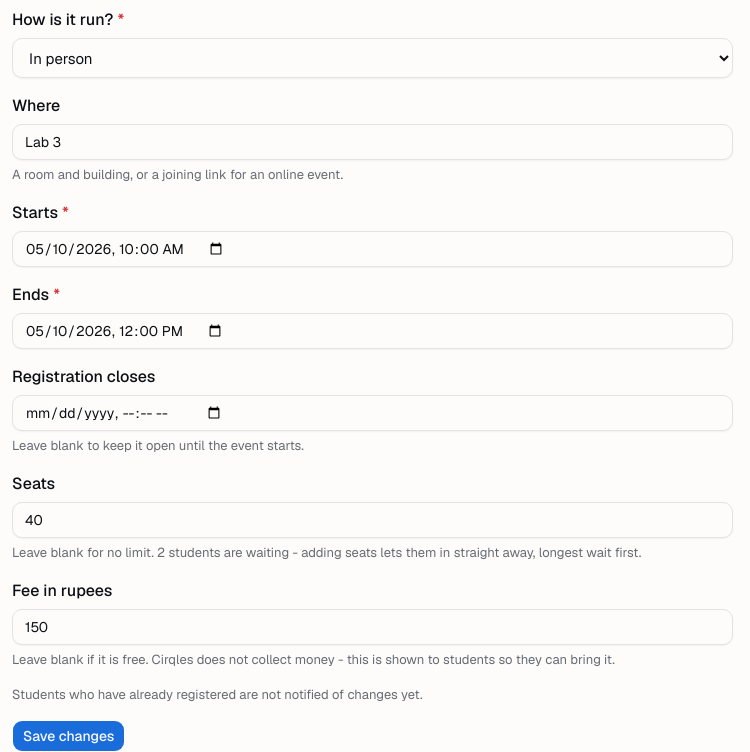
Test: EditEventForm › stays put and names the promotion when the waitlist moved
(page scrolled)
Step 1. Click the button "Save changes" → {"x": 69, "y": 736}, box x1=12 y1=720 x2=125 y2=751
(page scrolled)
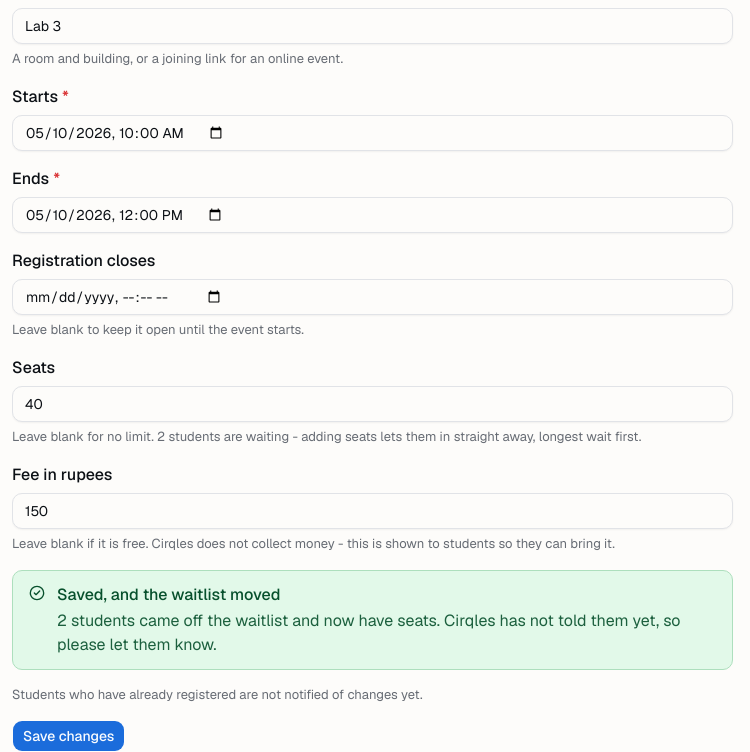
Expected: the text "2 students came off the waitlist" is shown, x1=57 y1=610 x2=440 y2=630
